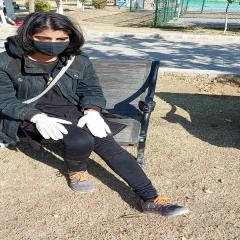gloved: (30, 113, 72, 141), (78, 110, 110, 138)
